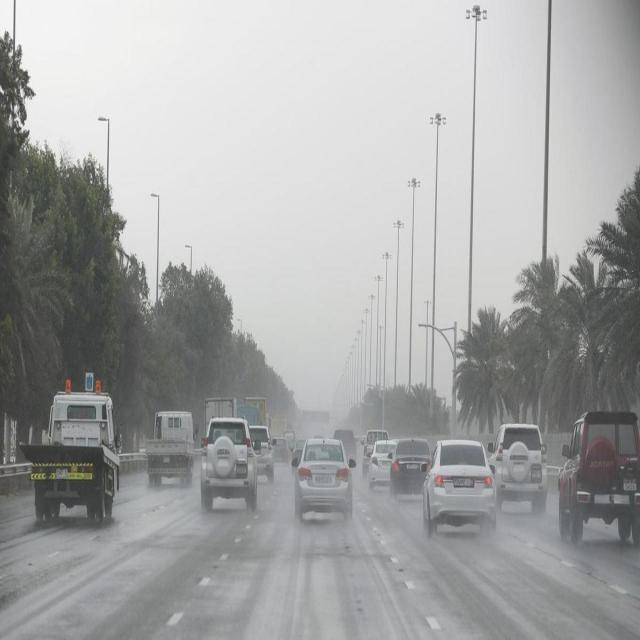Car: (556, 409, 640, 545), (422, 441, 496, 538), (486, 424, 550, 518), (200, 418, 262, 514), (290, 438, 355, 522), (387, 437, 433, 502), (364, 441, 398, 493), (249, 426, 277, 484), (273, 436, 292, 462)
Truck: (17, 374, 124, 524), (145, 406, 199, 486), (362, 427, 389, 477), (204, 394, 238, 432), (244, 395, 272, 430), (234, 404, 260, 422)
